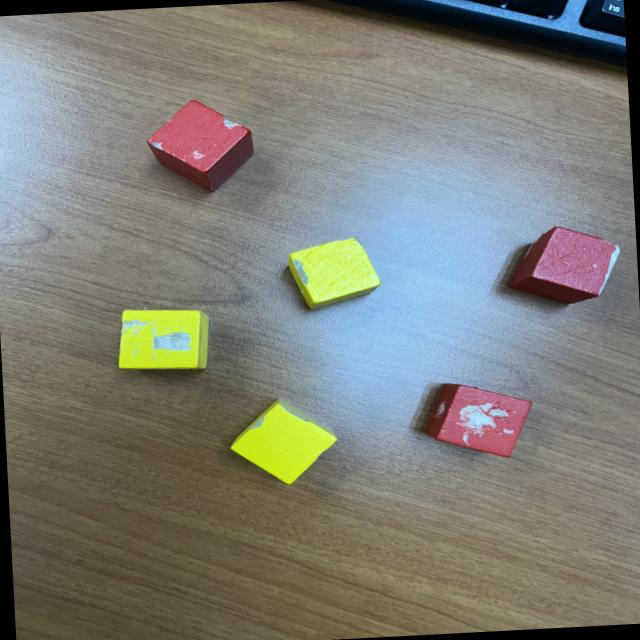broken: (144, 96, 255, 196), (230, 396, 342, 492), (506, 223, 622, 310), (422, 379, 534, 463), (286, 236, 382, 314), (115, 305, 212, 376)
